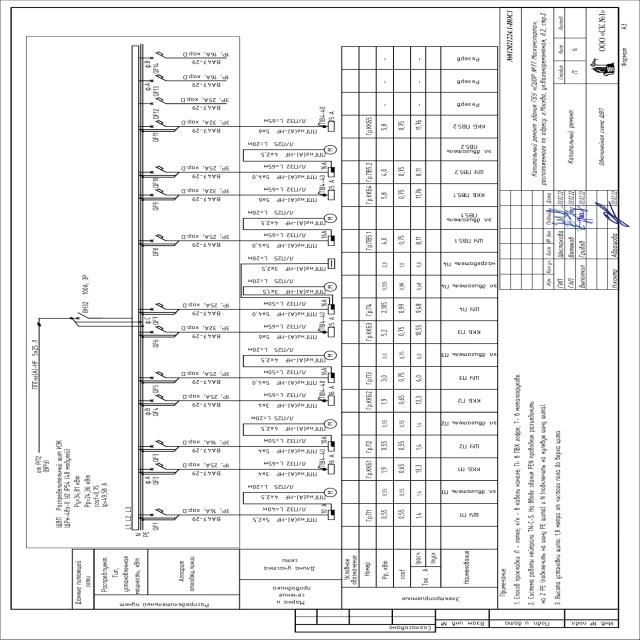-: (180, 462, 232, 479), (180, 186, 232, 203), (181, 95, 232, 112), (180, 369, 231, 386), (182, 73, 232, 90), (182, 50, 232, 67), (180, 324, 232, 340), (180, 233, 232, 249), (180, 164, 231, 180), (182, 301, 233, 317), (182, 507, 233, 523), (182, 393, 233, 409), (181, 119, 232, 135), (181, 438, 232, 454), (63, 448, 72, 529), (80, 272, 92, 314)
QF: (149, 301, 167, 312), (149, 393, 168, 403), (149, 324, 167, 334), (148, 234, 166, 244), (149, 508, 166, 518), (150, 74, 167, 84), (149, 462, 166, 472), (148, 119, 165, 129), (149, 164, 166, 174), (149, 97, 166, 107), (150, 188, 167, 198), (148, 438, 165, 448), (149, 369, 166, 379), (148, 51, 166, 60)
QS: (74, 312, 92, 321)
